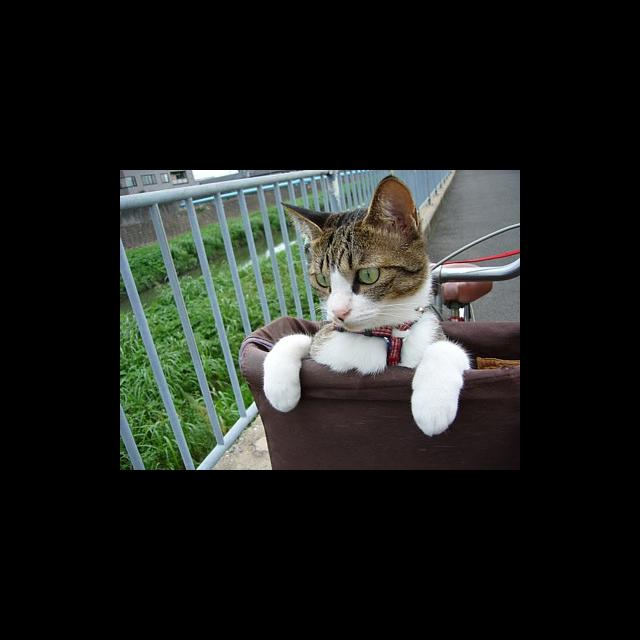animals: (283, 178, 418, 319)
